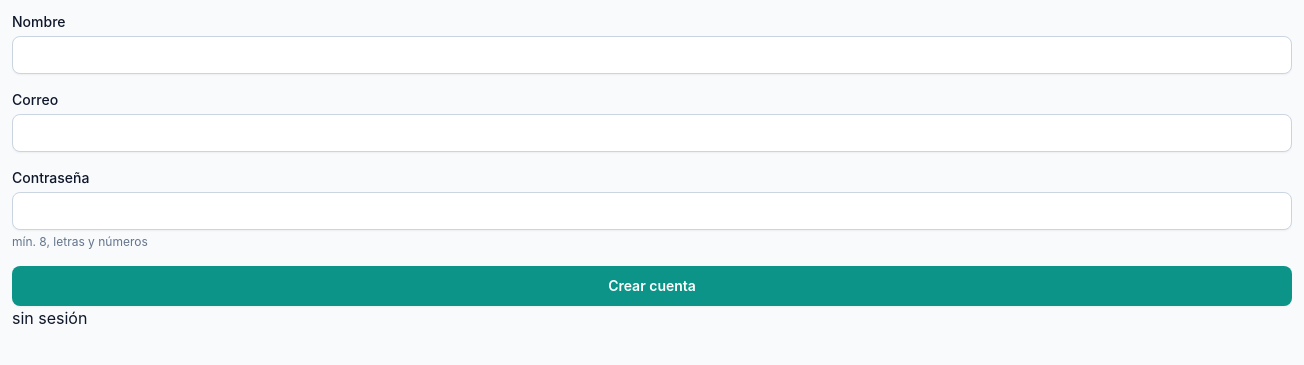
Test case: RegistroForm · errores por campo › contraseña débil (corta1)
In the field labelled "Nombre": (652, 55) 12,36 -> 1292,74, type "Laura Pérez"
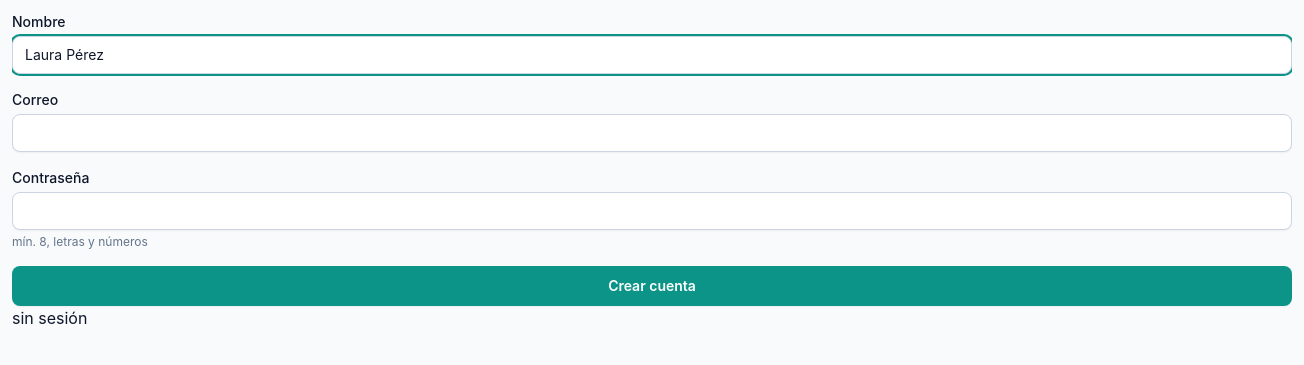
In the field labelled "Correo": (652, 133) 12,114 -> 1292,152, type "laura@correo.com"
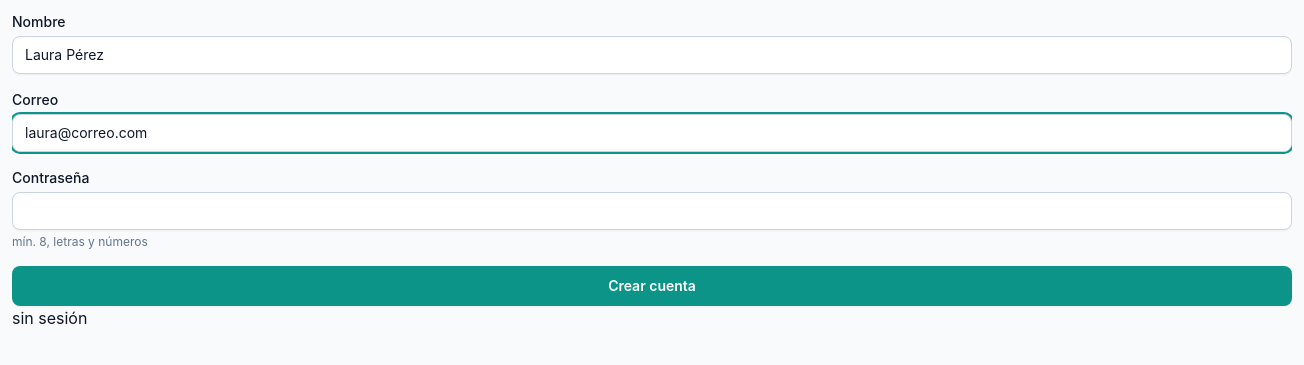
In the password field labelled "Contraseña": (652, 211) 12,192 -> 1292,230, type "corta1"
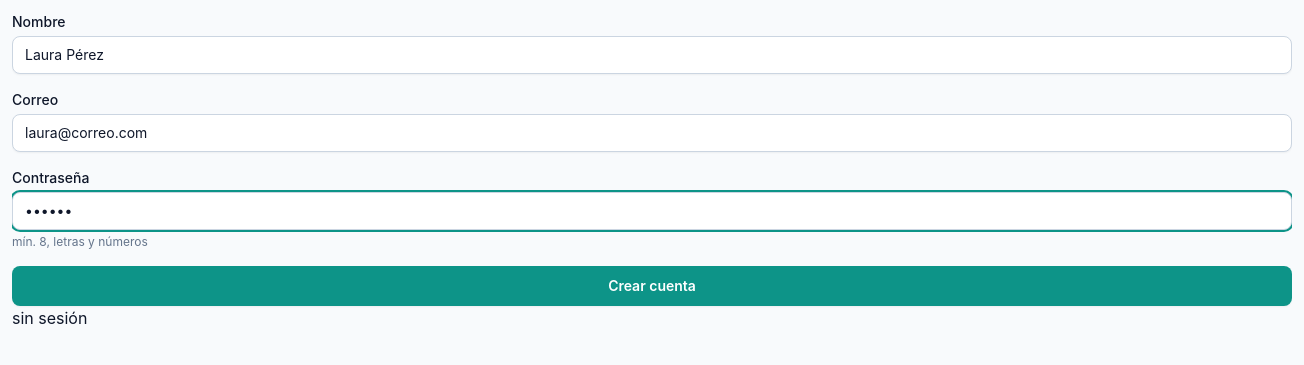
Click the button "Crear cuenta": (652, 286) 12,266 -> 1292,306
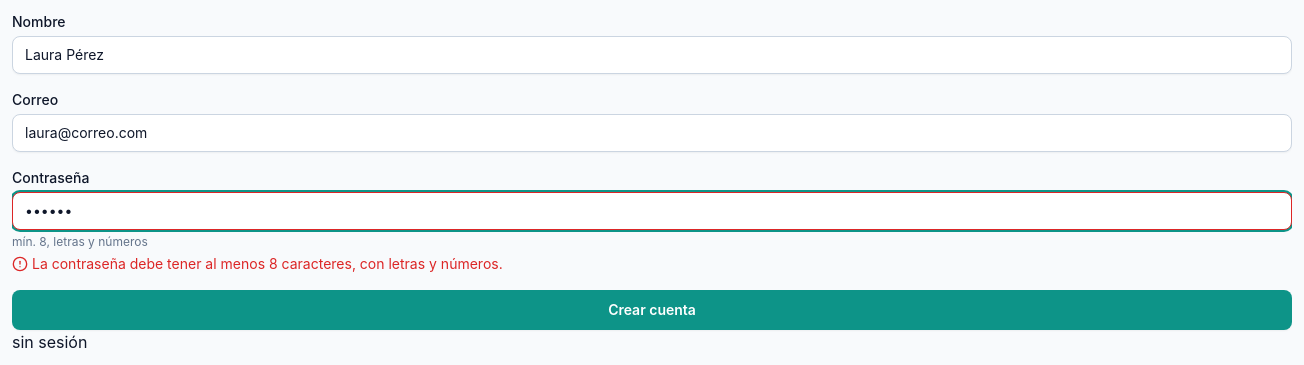
expect the text "al menos 8 caracteres, con letras y números" is shown: met, box 32,255 -> 503,272
